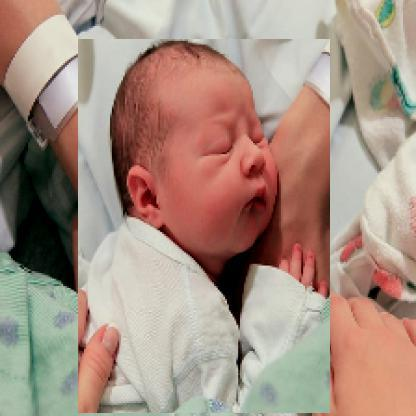child: (79, 40, 332, 415)
